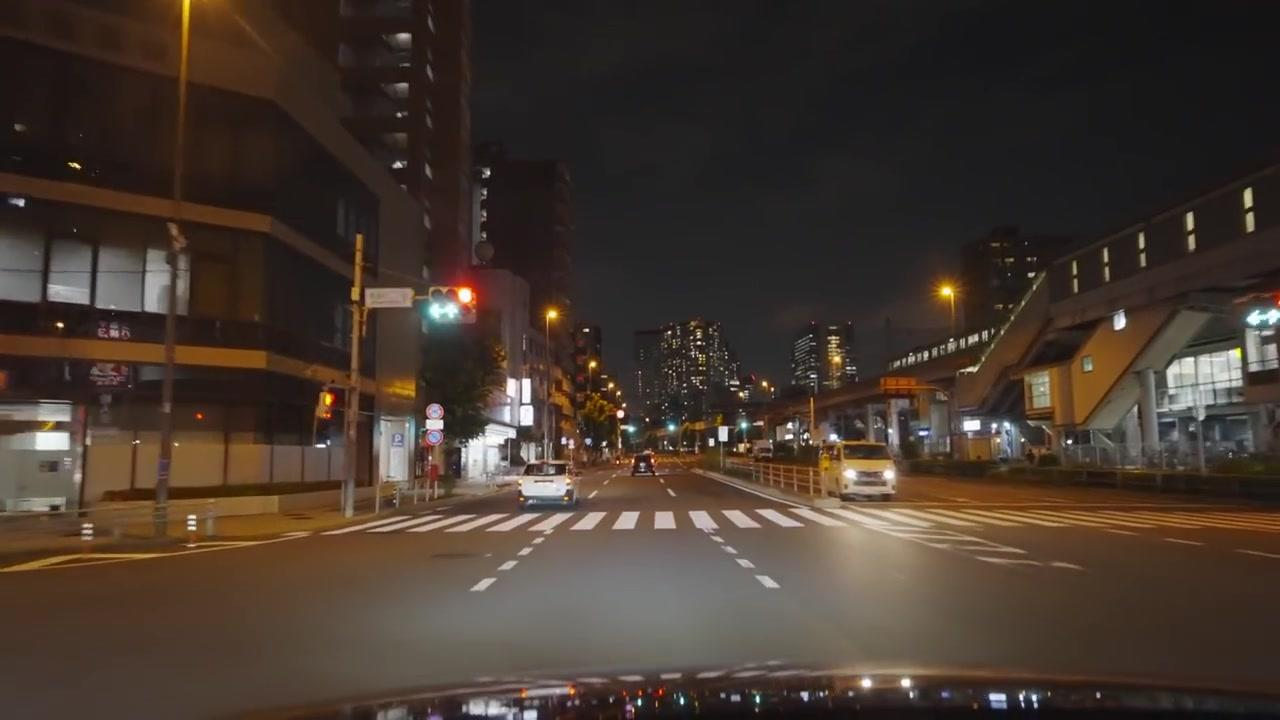car: (825, 441, 898, 502), (517, 460, 581, 508), (1060, 427, 1123, 466), (631, 451, 657, 476), (751, 441, 774, 458)
traffic light: (427, 285, 477, 326), (313, 387, 340, 444)
